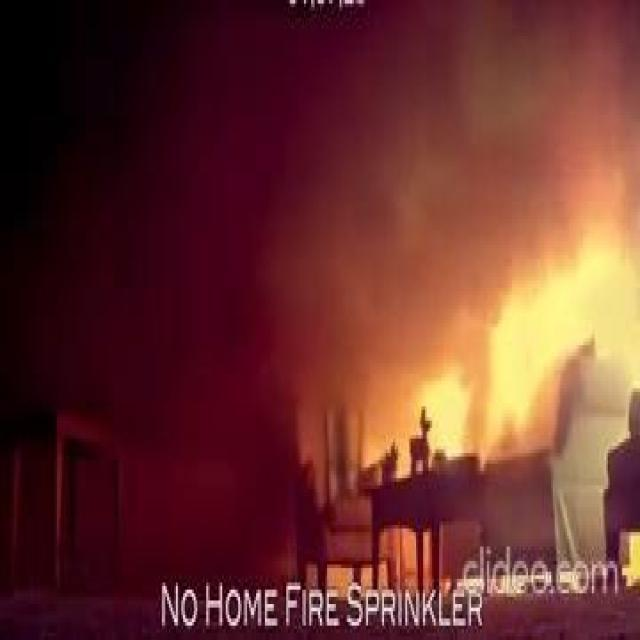smoke: (487, 241, 640, 435), (419, 366, 476, 456)
